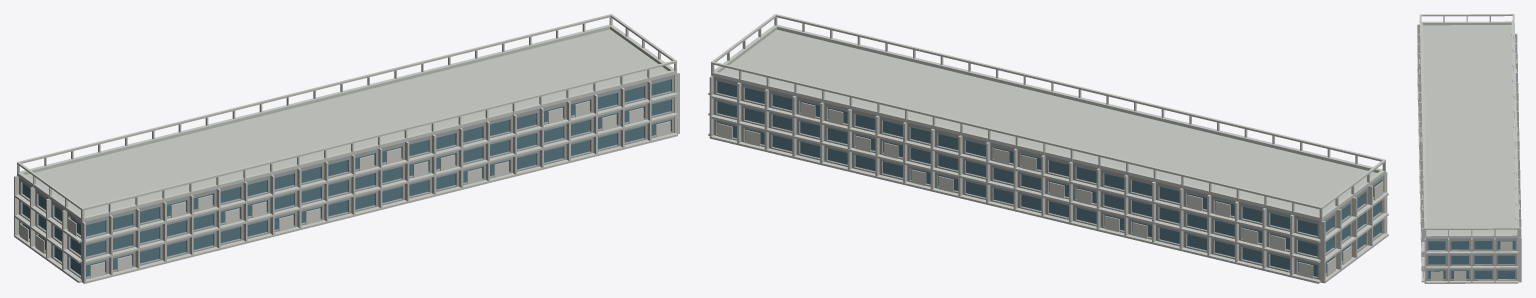
File: lab2.far.glb
3 renders of one model, left to right at view 1: azimuth 30°, elevation 25°; view 2: azimuth 150°, elevation 25°; view 3: azimuth 270°, elevation 25°, orthographic. The views are drawn at different scales.
Visible parts, largest first — view 1: roof, trim, glass, wall, screen; view 2: roof, trim, glass, wall, screen; view 3: roof, trim, glass, wall, screen.
Part boxes in pixels (x1,y1,x2,y2): roof: (26,29,668,216); trim: (14,14,679,283); glass: (22,79,670,276); wall: (19,75,673,279); screen: (19,101,670,278); roof: (720,29,1376,215); trim: (708,14,1388,283); glass: (717,81,1380,276); wall: (713,76,1383,279); screen: (717,102,1383,278); roof: (1423,25,1515,234); trim: (1417,14,1521,283); glass: (1428,241,1515,279); wall: (1426,238,1516,280); screen: (1419,59,1519,280).
Size of the model in its own units: 85.04 by 9.9 by 17.34.
